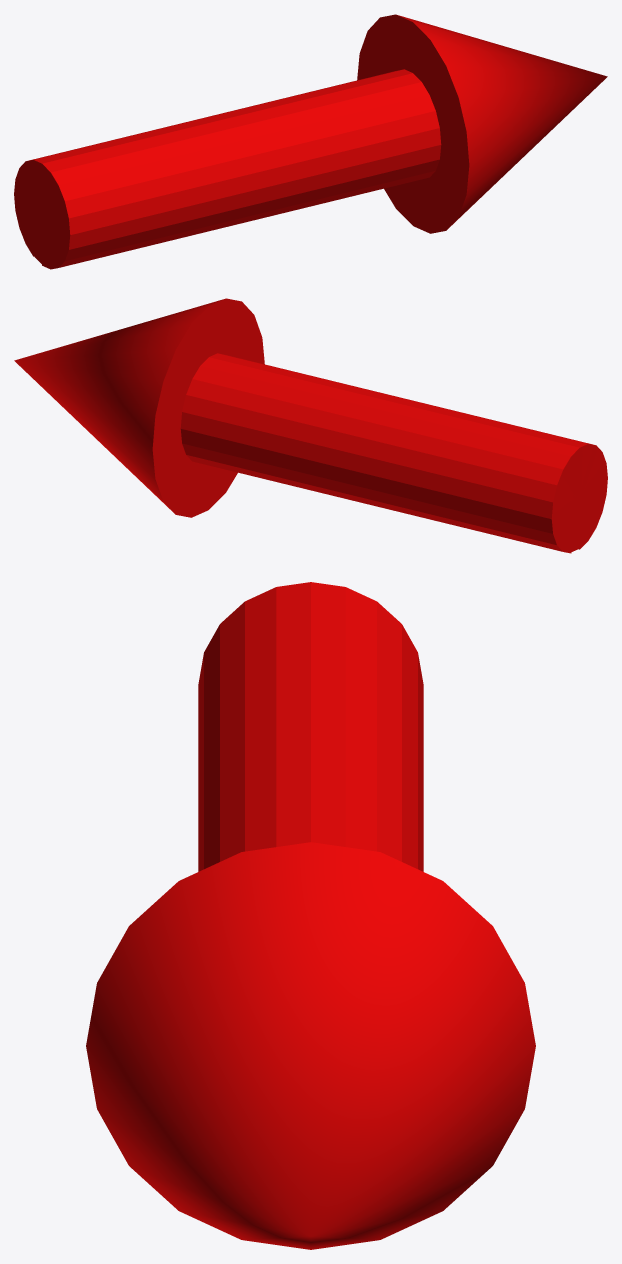
The model's file is arrowRed.fbx.
3 views of the same model, one above another, from view 1: azimuth 30°, elevation 25°; view 2: azimuth 150°, elevation 25°; view 3: azimuth 270°, elevation 25° (orthographic). The views are drawn at different scales.
Parts seen in each view (by area): view 1: pCone1; view 2: pCone1; view 3: pCone1.
Boxes of the visible parts, x1,y1,x2,y2 form: pCone1: [14, 14, 607, 269]; pCone1: [14, 298, 607, 553]; pCone1: [86, 582, 535, 1249].
Size of the model in its own units: 5.81 by 2 by 2.
